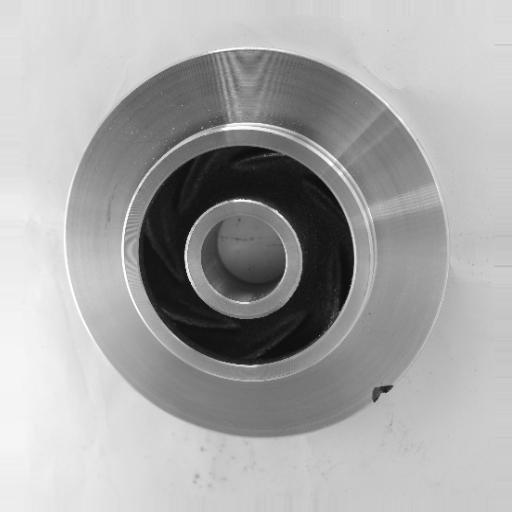crack: (360, 375, 399, 411)
unpolished_casting: (62, 45, 451, 443)
